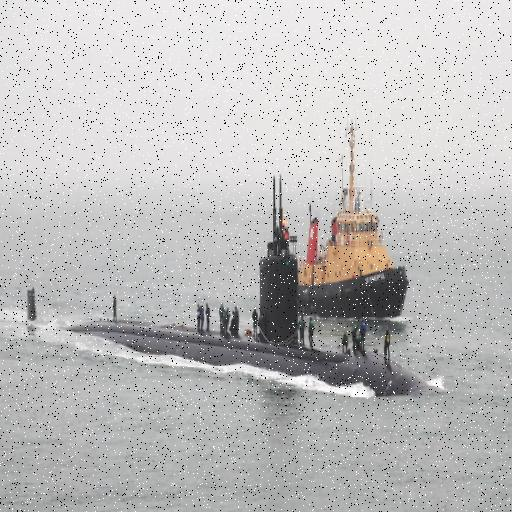submarine: (1, 174, 427, 399)
